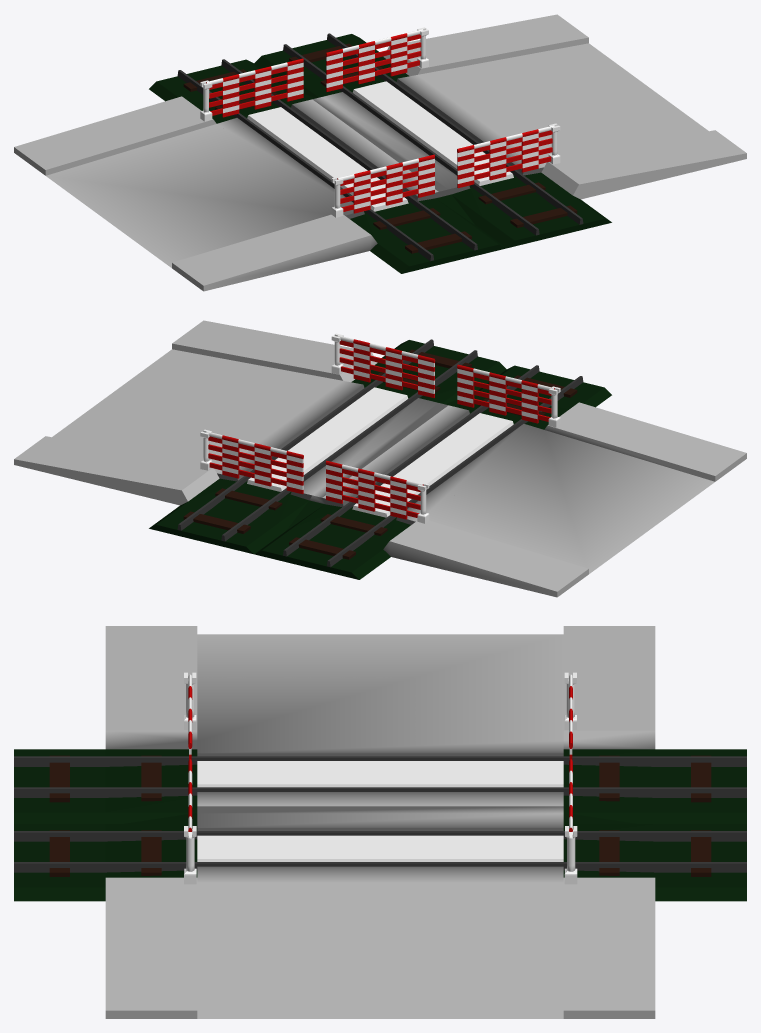
File: WideDoubleTrack_Crossing.FBX
The picture shows the model from 3 angles, top to bottom: view 1: azimuth 30°, elevation 25°; view 2: azimuth 150°, elevation 25°; view 3: azimuth 270°, elevation 25°; orthographic projection. The views are drawn at different scales.
Visible parts, largest first — view 1: WideDoubleTrack_Ground_Road, WideDoubleTrack_Ground_Track, WideDoubleTrack_Island_2, WideDoubleTrack_Island_1, WideDoubleTrack_Island_3, WideDoubleTrack_Gate_3, WideDoubleTrack_Gate_2, WideDoubleTrack_Gate_1, WideDoubleTrack_Gate_4, WideDoubleTrack_Rail_3, WideDoubleTrack_Rail_1, WideDoubleTrack_Rail_2 (+5 smaller); view 2: WideDoubleTrack_Ground_Road, WideDoubleTrack_Ground_Track, WideDoubleTrack_Island_2, WideDoubleTrack_Island_1, WideDoubleTrack_Island_3, WideDoubleTrack_Gate_1, WideDoubleTrack_Gate_4, WideDoubleTrack_Gate_2, WideDoubleTrack_Gate_3, WideDoubleTrack_Rail_3, WideDoubleTrack_Rail_1, WideDoubleTrack_Rail_4 (+5 smaller); view 3: WideDoubleTrack_Ground_Road, WideDoubleTrack_Ground_Track, WideDoubleTrack_Island_2, WideDoubleTrack_Island_1, WideDoubleTrack_Island_3, WideDoubleTrack_Rail_1, WideDoubleTrack_Rail_2, WideDoubleTrack_Rail_4, WideDoubleTrack_Rail_3, WideDoubleTrack_Gate_3, WideDoubleTrack_Gate_4, WideDoubleTrack_Sleeper_5 (+9 smaller).
Boxes of the visible parts, <box> form: WideDoubleTrack_Ground_Road: <box>14,14,746,291</box>; WideDoubleTrack_Ground_Track: <box>149,34,611,273</box>; WideDoubleTrack_Island_2: <box>291,92,470,201</box>; WideDoubleTrack_Island_1: <box>352,81,513,185</box>; WideDoubleTrack_Island_3: <box>247,107,408,211</box>; WideDoubleTrack_Gate_3: <box>457,123,560,188</box>; WideDoubleTrack_Gate_2: <box>200,58,303,121</box>; WideDoubleTrack_Gate_1: <box>331,154,434,217</box>; WideDoubleTrack_Gate_4: <box>325,27,428,91</box>; WideDoubleTrack_Rail_3: <box>283,44,539,235</box>; WideDoubleTrack_Rail_1: <box>177,70,433,261</box>; WideDoubleTrack_Rail_2: <box>221,59,477,250</box>; WideDoubleTrack_Ground_Road: <box>14,320,746,597</box>; WideDoubleTrack_Ground_Track: <box>149,340,611,579</box>; WideDoubleTrack_Island_2: <box>290,398,469,507</box>; WideDoubleTrack_Island_1: <box>247,387,408,491</box>; WideDoubleTrack_Island_3: <box>352,413,513,517</box>; WideDoubleTrack_Gate_1: <box>457,364,560,427</box>; WideDoubleTrack_Gate_4: <box>200,429,303,494</box>; WideDoubleTrack_Gate_2: <box>325,460,429,523</box>; WideDoubleTrack_Gate_3: <box>331,333,435,397</box>; WideDoubleTrack_Rail_3: <box>221,350,477,541</box>; WideDoubleTrack_Rail_1: <box>327,376,583,567</box>; WideDoubleTrack_Rail_4: <box>177,339,433,530</box>; WideDoubleTrack_Ground_Road: <box>105,626,655,1018</box>; WideDoubleTrack_Ground_Track: <box>14,749,746,901</box>; WideDoubleTrack_Island_2: <box>197,792,563,830</box>; WideDoubleTrack_Island_1: <box>197,835,563,861</box>; WideDoubleTrack_Island_3: <box>197,761,563,787</box>; WideDoubleTrack_Rail_1: <box>14,756,746,766</box>; WideDoubleTrack_Rail_2: <box>14,787,746,797</box>; WideDoubleTrack_Rail_4: <box>14,862,746,872</box>; WideDoubleTrack_Rail_3: <box>14,831,746,841</box>; WideDoubleTrack_Gate_3: <box>184,759,196,884</box>; WideDoubleTrack_Gate_4: <box>564,759,577,884</box>; WideDoubleTrack_Sleeper_5: <box>691,755,711,802</box>.
Bounding box in the file's own units: 993 × 800 × 90.99.
